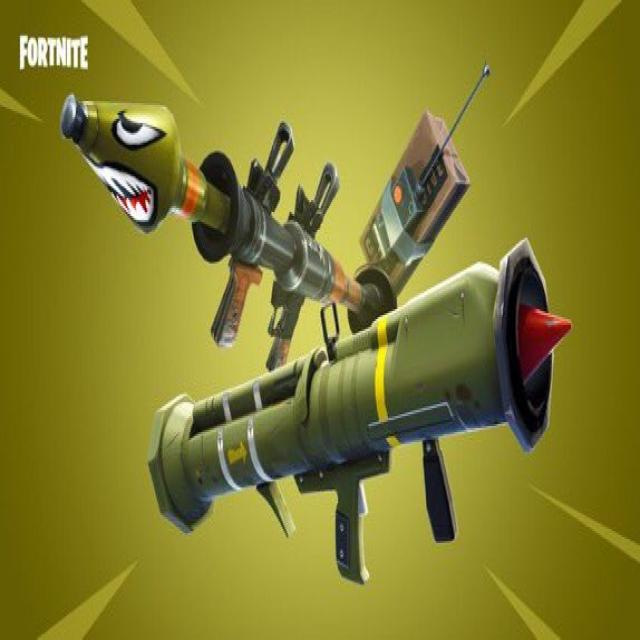bazooka: (126, 184, 622, 604)
